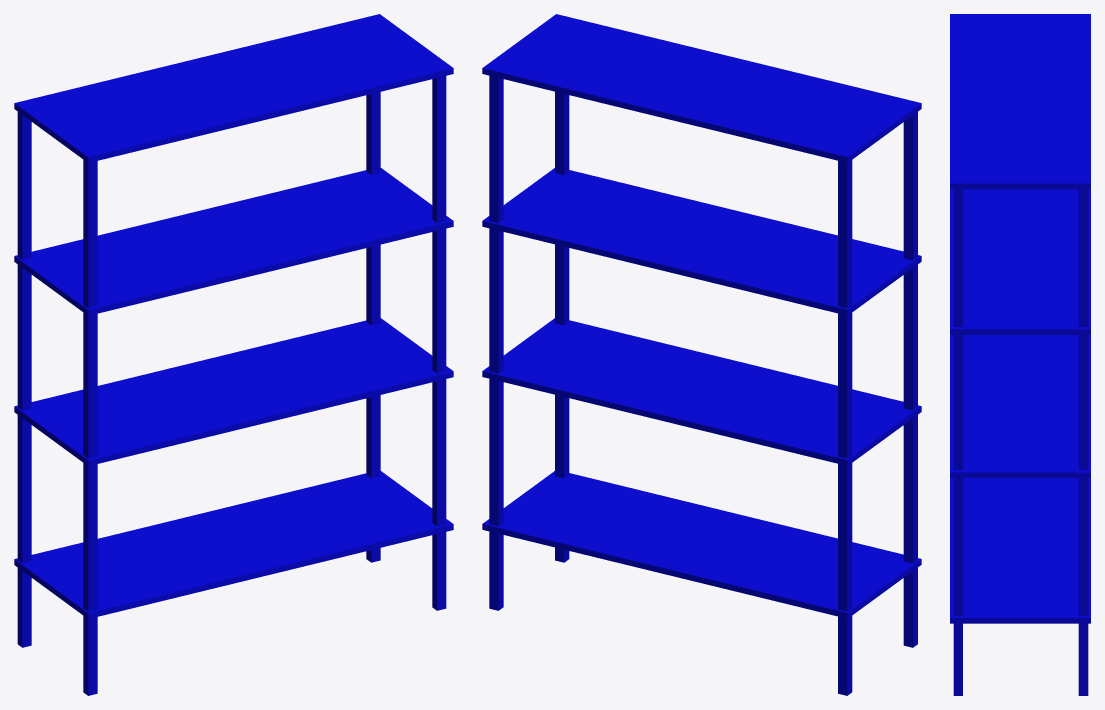
File: SE_Proxy_WireShelf.fbx
3 views of the same model, side by side, from view 1: azimuth 30°, elevation 25°; view 2: azimuth 150°, elevation 25°; view 3: azimuth 270°, elevation 25° (orthographic). The views are drawn at different scales.
Visible parts, largest first — view 1: SE_Proxy_WireShelf:SE_Proxy_WireShelf; view 2: SE_Proxy_WireShelf:SE_Proxy_WireShelf; view 3: SE_Proxy_WireShelf:SE_Proxy_WireShelf.
Part boxes in pixels (x1,y1,x2,y2): SE_Proxy_WireShelf:SE_Proxy_WireShelf: (14,14,453,695); SE_Proxy_WireShelf:SE_Proxy_WireShelf: (482,14,921,695); SE_Proxy_WireShelf:SE_Proxy_WireShelf: (950,14,1090,695).
Size of the model in its own units: 3397 by 4800 by 1191.
